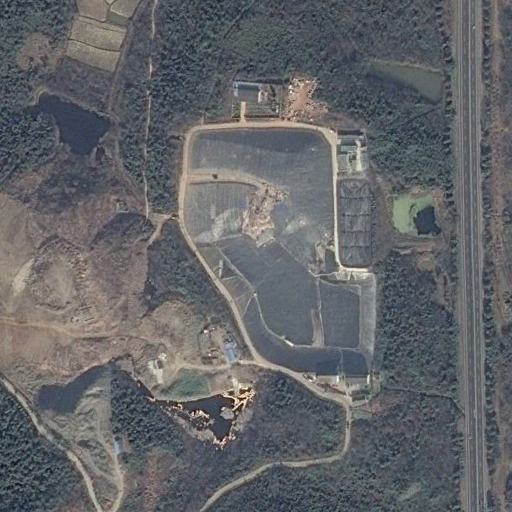lf: (182, 127, 374, 378)
